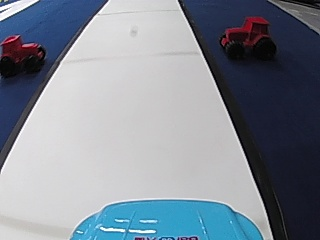tractor: (217, 14, 276, 62), (0, 32, 45, 76)
